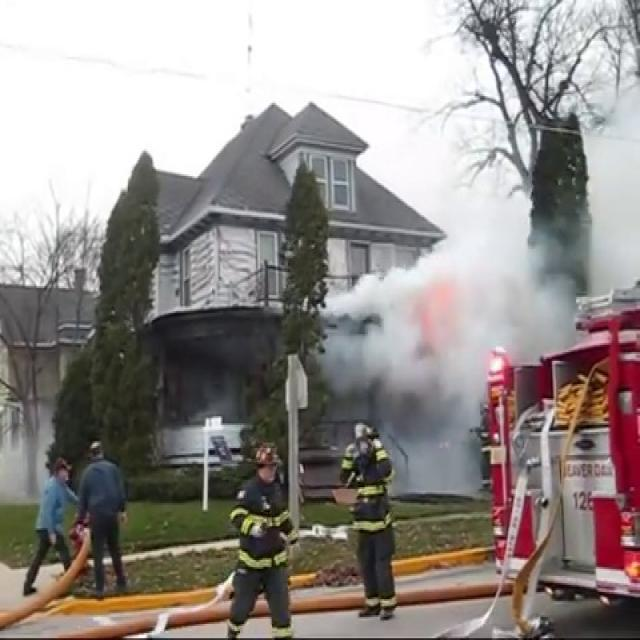Smoke: (322, 156, 578, 472)
